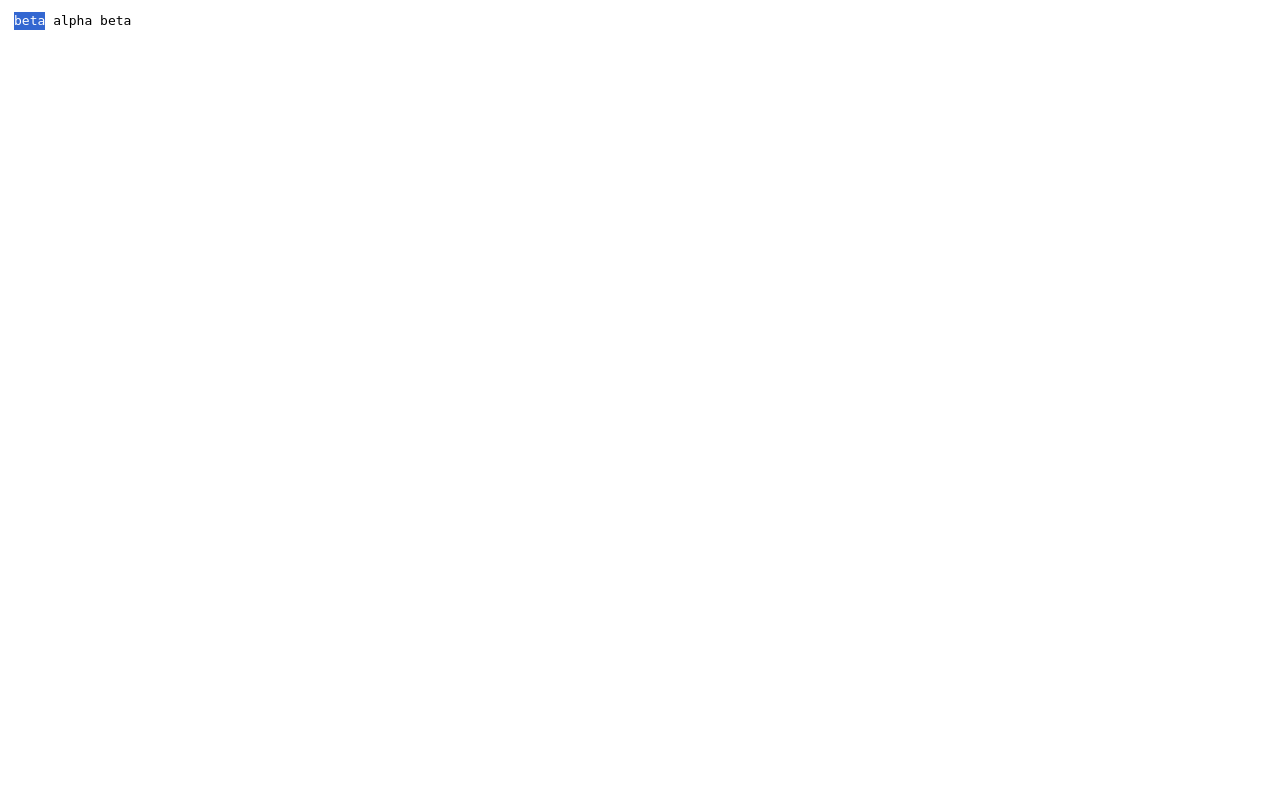
Scenario: chapter search panel › 提供只读单行 Find Widget、选区预填和关闭焦点恢复
This screenshot has width=1280, height=800.
Press f in the field labelled "beta alpha beta", box [14,13,131,28]
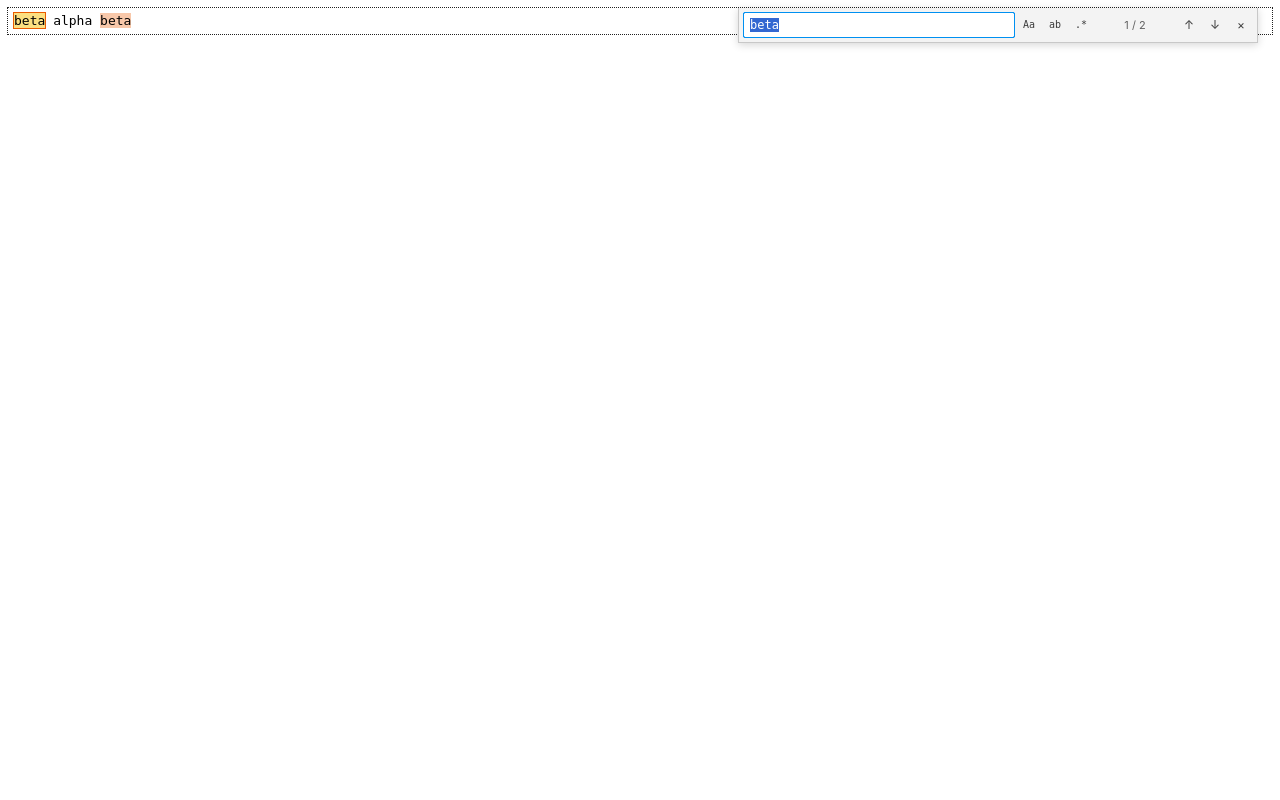
Expected: the field named "查找" holds "beta", [743,12,1015,38]
Expected: the button named "上一个匹配项" is shown, [1177,13,1201,37]
Expected: the button named "下一个匹配项" is shown, [1203,13,1227,37]
Click the button "×" at (1241, 25), box [1229,13,1253,37]
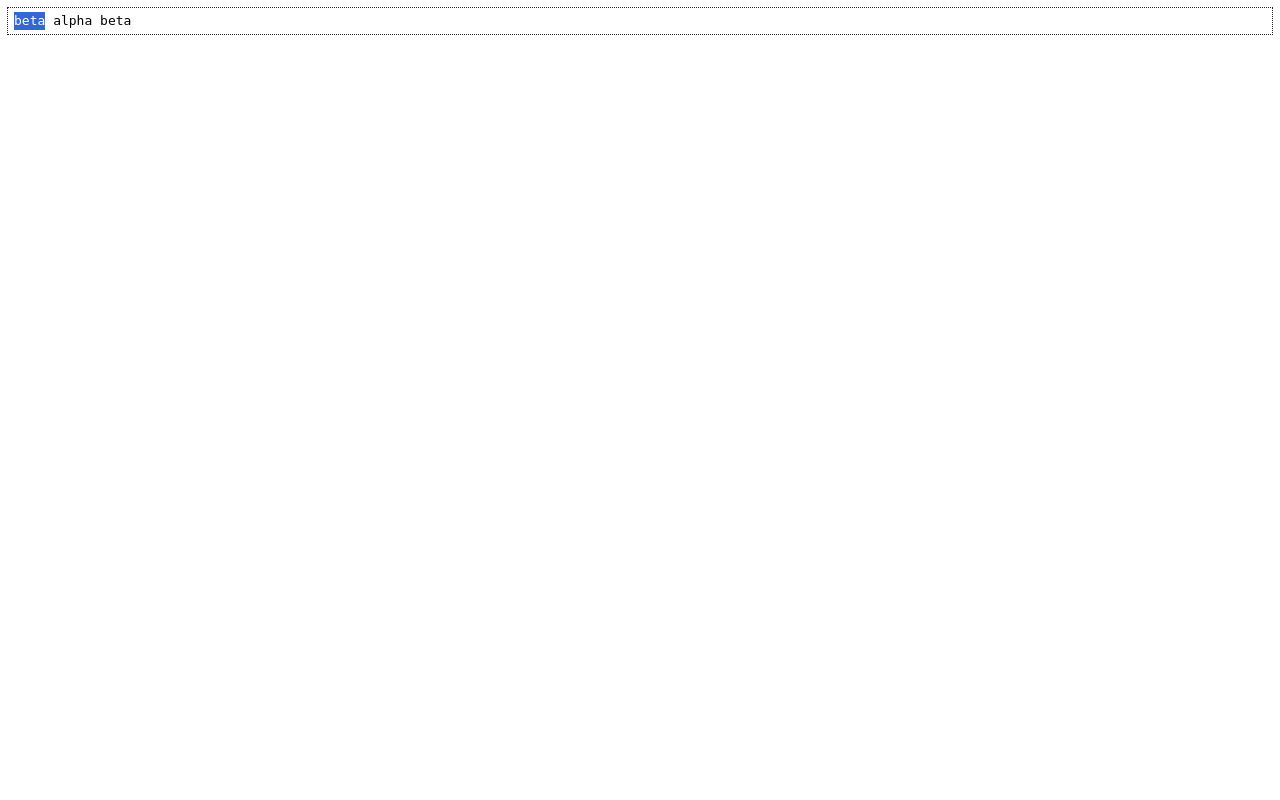
Expected: the dialog with class "cm-chapter-search-panel" is gone
